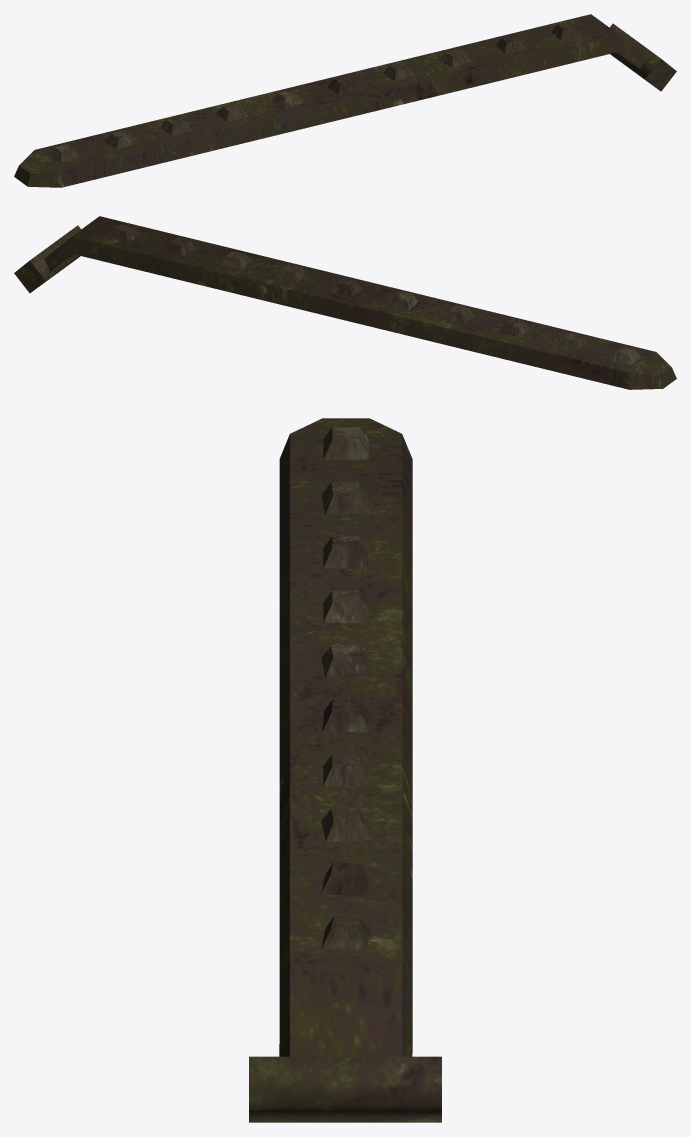
Rendered from TI_DoorHinge_02.fbx.
The picture shows the model from 3 angles, top to bottom: view 1: azimuth 30°, elevation 25°; view 2: azimuth 150°, elevation 25°; view 3: azimuth 270°, elevation 25°; orthographic projection. The views are drawn at different scales.
Visible parts, largest first — view 1: TI_DoorHinge_02; view 2: TI_DoorHinge_02; view 3: TI_DoorHinge_02.
Boxes of the visible parts, <box> form: TI_DoorHinge_02: <box>14,14,676,187</box>; TI_DoorHinge_02: <box>14,216,676,389</box>; TI_DoorHinge_02: <box>249,418,441,1122</box>.
Size of the model in its own units: 1.24 by 0.1226 by 0.1637.
